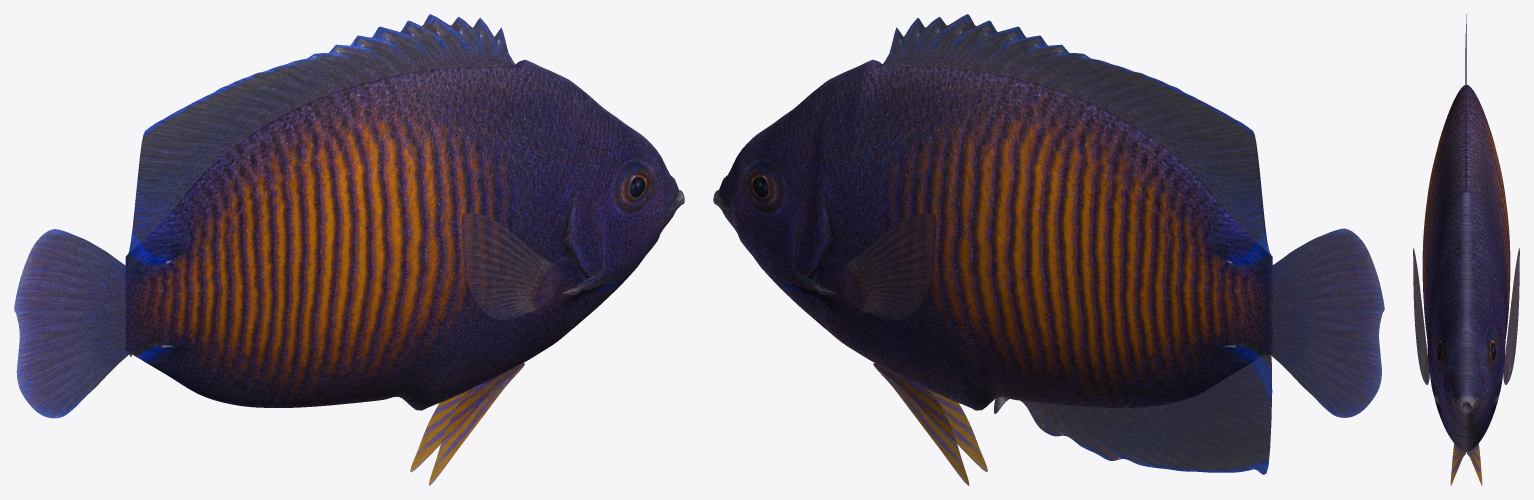
File: bispinosa.glb
3 views of the same model, side by side, from view 1: azimuth 30°, elevation 25°; view 2: azimuth 150°, elevation 25°; view 3: azimuth 270°, elevation 25° (orthographic). The views are drawn at different scales.
Parts seen in each view (by area): view 1: bispinosa__body, bispinosa__fin_1, bispinosa__fin_0, bispinosa__pectoral_1, bispinosa__gill_1, bispinosa__pelvic_1, bispinosa__pelvic_-1, bispinosa__eye_1; view 2: bispinosa__body, bispinosa__fin_1, bispinosa__fin_0, bispinosa__fin_2, bispinosa__pectoral_-1, bispinosa__gill_-1, bispinosa__pelvic_-1, bispinosa__pelvic_1, bispinosa__eye_-1; view 3: bispinosa__body, bispinosa__pectoral_1, bispinosa__pectoral_-1, bispinosa__gill_1, bispinosa__gill_-1, bispinosa__fin_1, bispinosa__pelvic_1, bispinosa__pelvic_-1, bispinosa__eye_1, bispinosa__eye_-1.
Part boxes in pixels (<box>): bispinosa__body: <box>125,59,684,410</box>; bispinosa__fin_1: <box>127,14,517,255</box>; bispinosa__fin_0: <box>14,229,132,418</box>; bispinosa__pectoral_1: <box>461,213,563,320</box>; bispinosa__gill_1: <box>565,150,618,297</box>; bispinosa__pelvic_1: <box>428,363,524,485</box>; bispinosa__pelvic_-1: <box>410,363,523,472</box>; bispinosa__eye_1: <box>622,170,648,204</box>; bispinosa__body: <box>713,59,1272,410</box>; bispinosa__fin_1: <box>881,14,1270,254</box>; bispinosa__fin_0: <box>1266,228,1384,417</box>; bispinosa__fin_2: <box>994,352,1272,474</box>; bispinosa__pectoral_-1: <box>834,213,936,320</box>; bispinosa__gill_-1: <box>780,150,832,297</box>; bispinosa__pelvic_-1: <box>873,363,969,485</box>; bispinosa__pelvic_1: <box>874,363,987,472</box>; bispinosa__eye_-1: <box>749,170,775,204</box>; bispinosa__body: <box>1422,84,1510,451</box>; bispinosa__pectoral_1: <box>1413,248,1429,384</box>; bispinosa__pectoral_-1: <box>1503,248,1519,384</box>; bispinosa__gill_1: <box>1427,283,1440,405</box>; bispinosa__gill_-1: <box>1492,283,1505,405</box>; bispinosa__fin_1: <box>1465,14,1466,191</box>; bispinosa__pelvic_1: <box>1450,444,1466,485</box>; bispinosa__pelvic_-1: <box>1466,444,1482,485</box>; bispinosa__eye_1: <box>1436,336,1444,366</box>; bispinosa__eye_-1: <box>1488,336,1496,366</box>.
Size of the model in its own units: 1.21 by 0.7999 by 0.1948.
5 materials, 5 textured.
